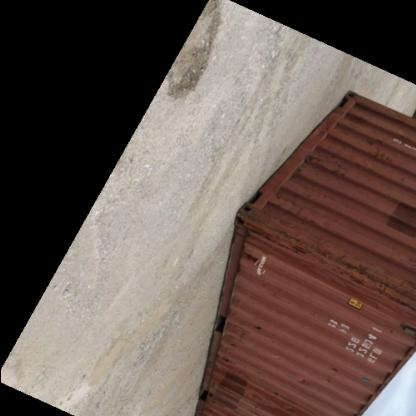Damage: (232, 219, 385, 284), (291, 146, 356, 184), (200, 386, 268, 414), (264, 186, 310, 214), (215, 336, 247, 371), (320, 364, 349, 388), (252, 316, 272, 332), (297, 372, 311, 389)
